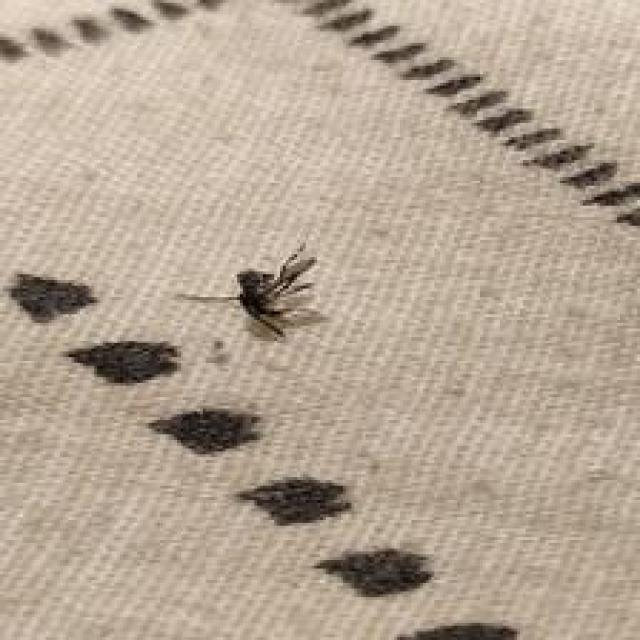Aedes albopictus: (174, 242, 329, 338)
